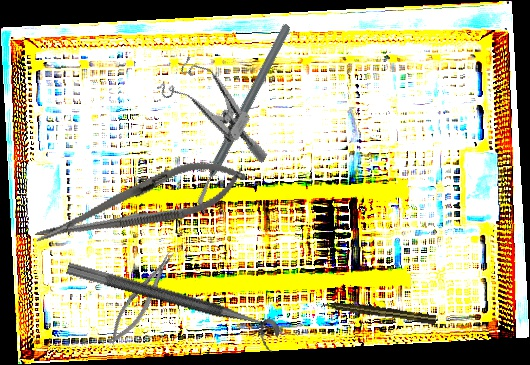Chopper: (141, 22, 347, 217)
Fixation Ring: (60, 261, 283, 353)
Handpiece: (320, 298, 437, 326)
Needle Holder: (26, 146, 254, 262), (99, 246, 185, 351)
Speculum: (150, 50, 291, 164)
